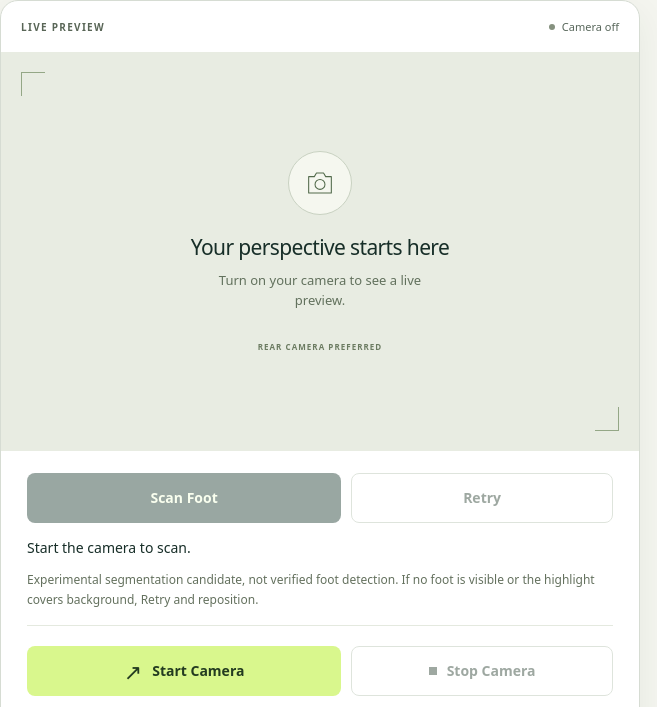
Test: CameraPreview › cleans up when playback fails
Click the button "↗ Start Camera".
click(184, 671)  # box [27, 646, 341, 696]
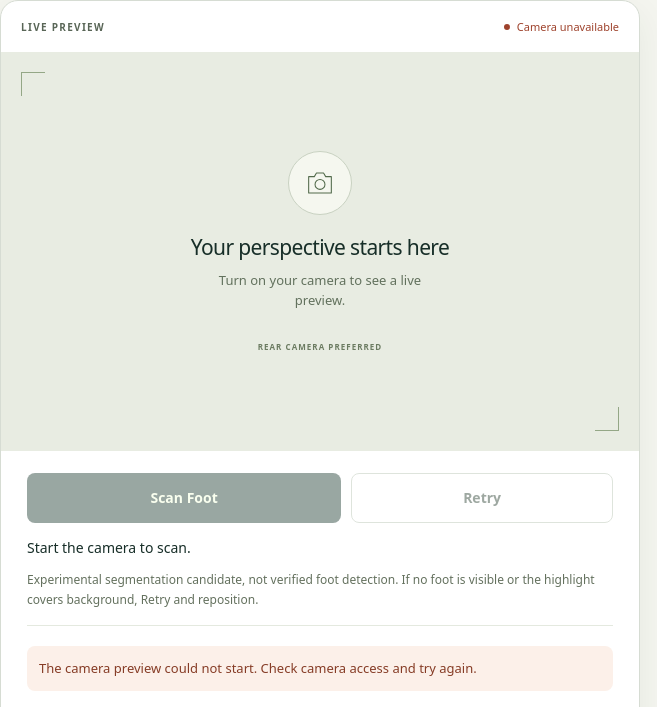
Now the message "The camera preview could not start. Check camera access and try again." is shown, box [27, 646, 613, 691]
